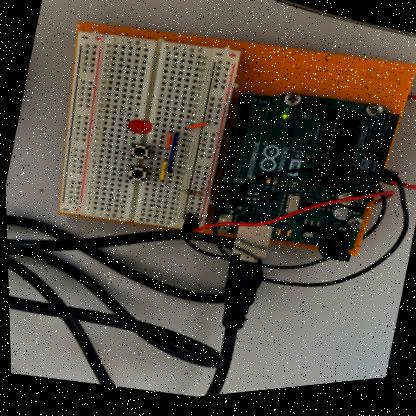5V: (182, 111, 413, 238)
ARDUINO: (212, 91, 401, 259)
Breadboard: (59, 33, 240, 236)
Button: (128, 147, 149, 163), (127, 169, 146, 184)
GND: (216, 180, 409, 295), (203, 170, 388, 279)
LED: (126, 122, 150, 137)
Long wire: (166, 136, 178, 177)
Resistor: (182, 193, 203, 201)
Short wire: (158, 165, 166, 184), (187, 126, 206, 133), (165, 137, 171, 152)
